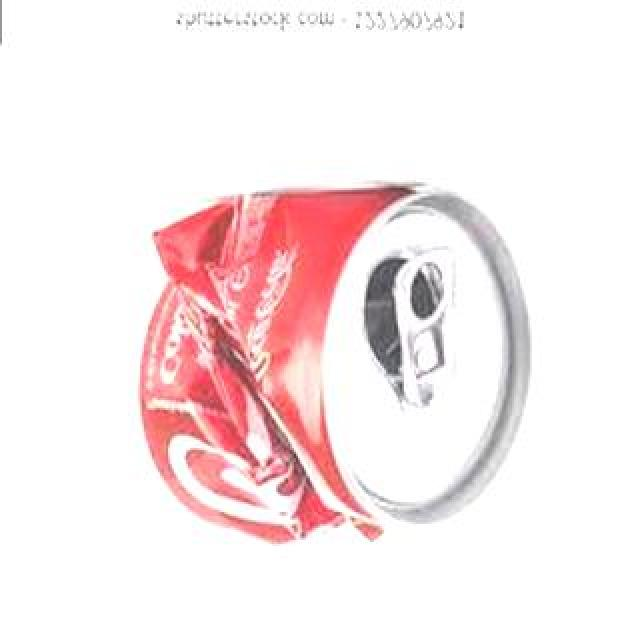Can: (123, 181, 539, 551)
